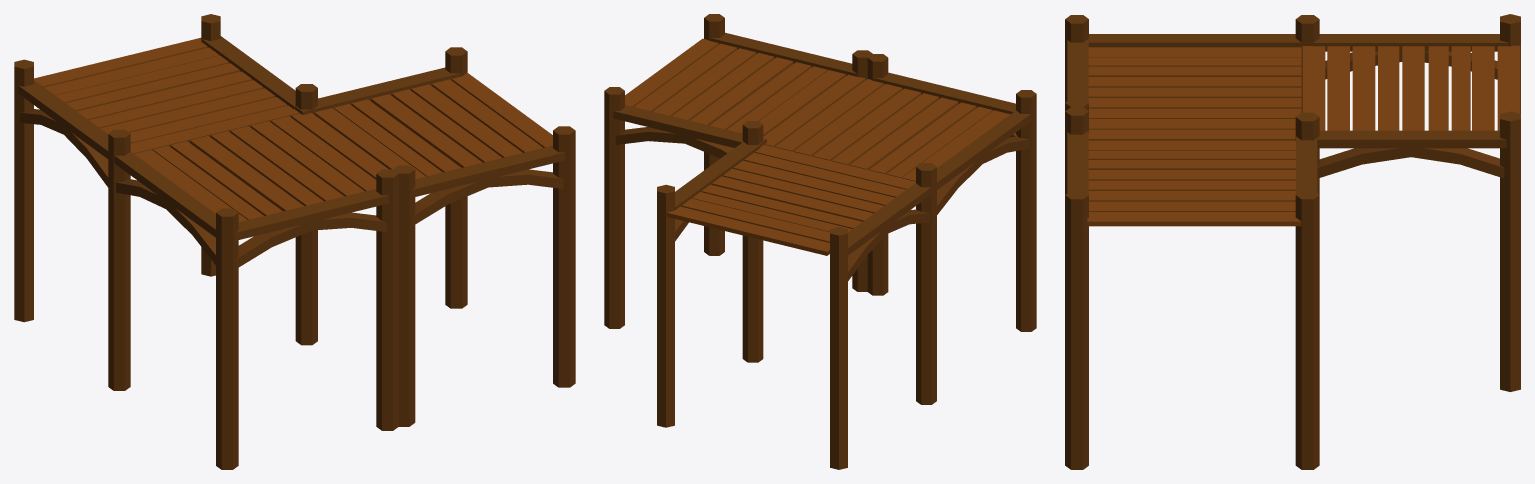
The model's file is Mesh_Dock_CornerRight.fbx.
3 views of the same model, side by side, from view 1: azimuth 30°, elevation 25°; view 2: azimuth 150°, elevation 25°; view 3: azimuth 270°, elevation 25° (orthographic). The views are drawn at different scales.
Visible parts, largest first — view 1: Dock_CornerRight; view 2: Dock_CornerRight; view 3: Dock_CornerRight.
Part boxes in pixels (left/top/right/bottom): Dock_CornerRight: left=14, top=14, right=575, bottom=469; Dock_CornerRight: left=604, top=14, right=1036, bottom=469; Dock_CornerRight: left=1065, top=14, right=1520, bottom=469.
Size of the model in its own units: 737 by 502 by 766.
1 material, 1 textured.
